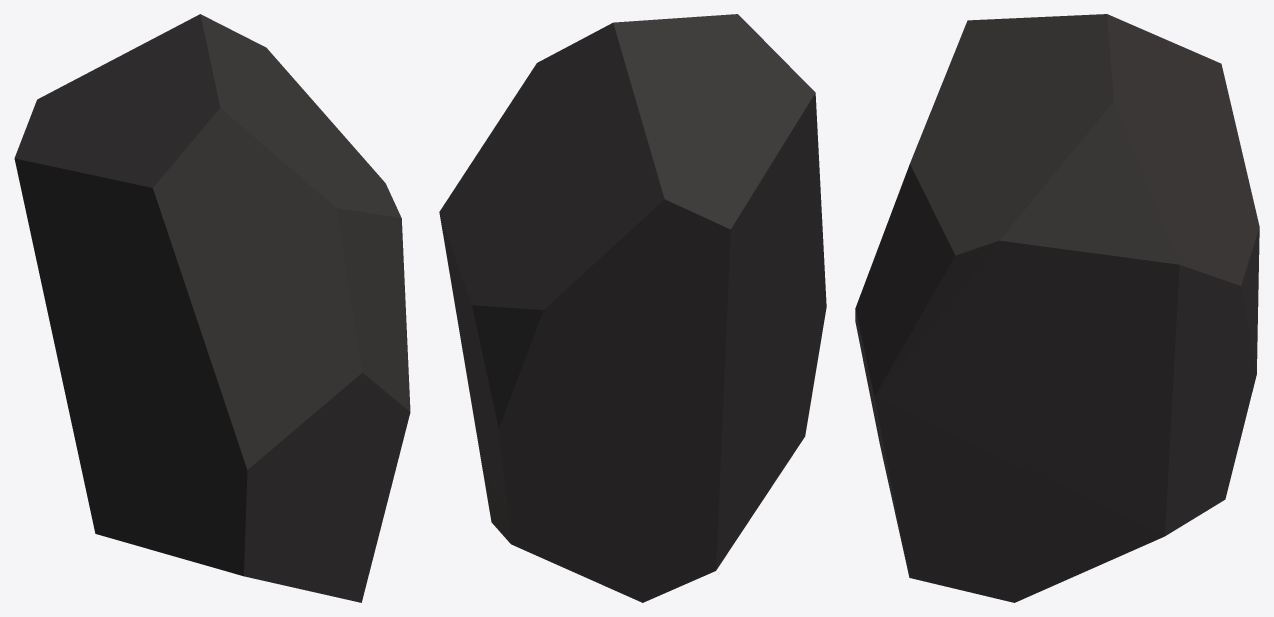
File: Rock_02.glb
The picture shows the model from 3 angles, left to right: view 1: azimuth 30°, elevation 25°; view 2: azimuth 150°, elevation 25°; view 3: azimuth 270°, elevation 25°; orthographic projection. The views are drawn at different scales.
Parts seen in each view (by area): view 1: Rock_02; view 2: Rock_02; view 3: Rock_02.
Part boxes in pixels (x1=…): Rock_02: x1=14, y1=14, x2=410, y2=602; Rock_02: x1=439, y1=14, x2=826, y2=602; Rock_02: x1=855, y1=14, x2=1259, y2=602.
Size of what is drawn, in the model's own units: 1.32 by 2.49 by 1.64.
1 material, 1 textured.
